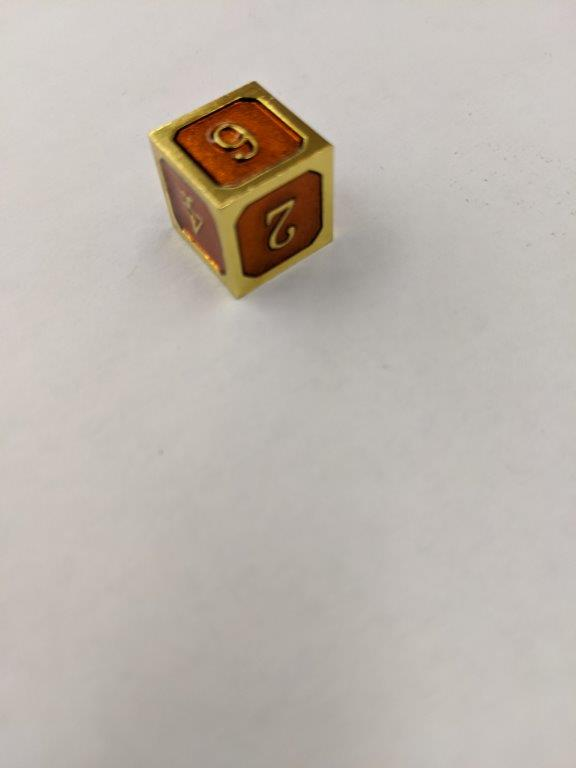d6-6: (147, 80, 335, 304)
